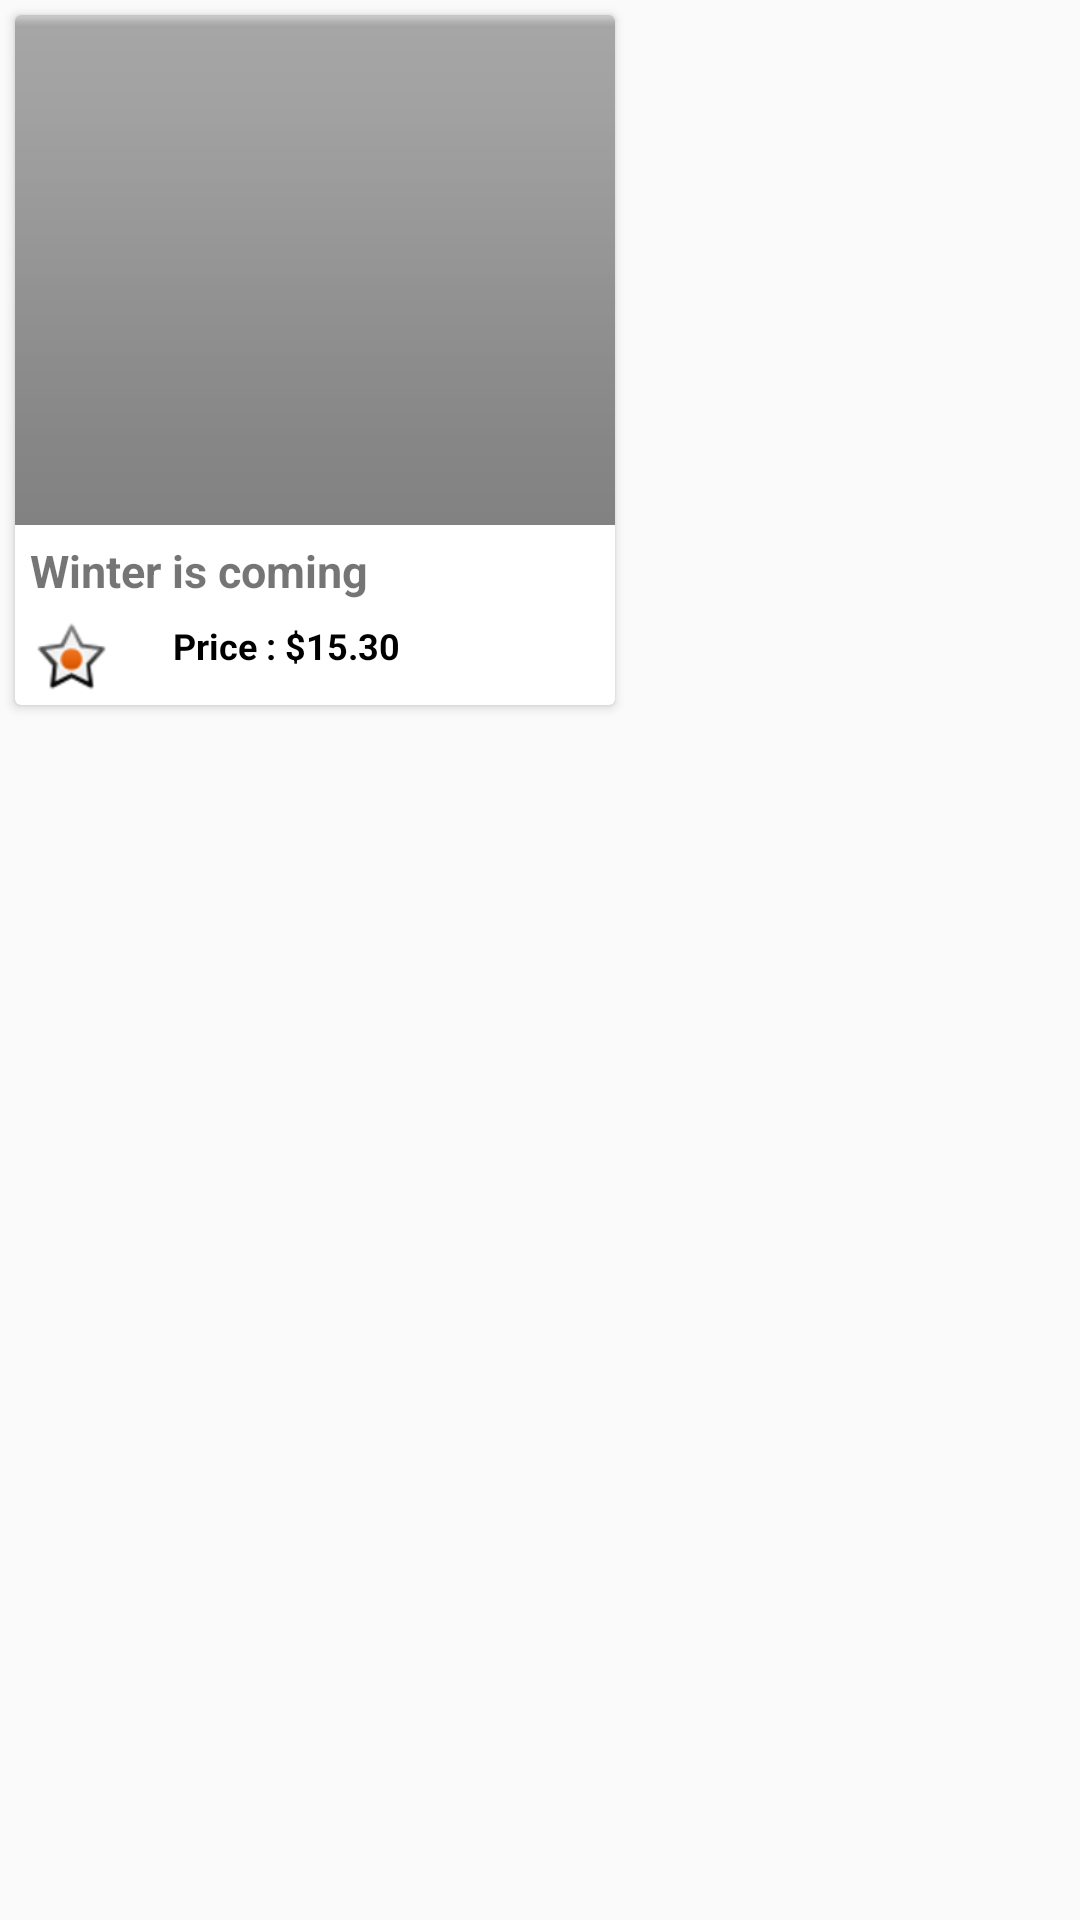

Screen size 1080*1920. Icon name, then its center in pixels as (x,y):
star on: (71,656)
